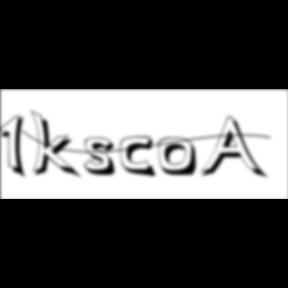1: (0, 114, 32, 182)
A: (200, 116, 270, 182)
c: (121, 136, 161, 180)
k: (30, 108, 84, 181)
o: (158, 137, 200, 179)
s: (84, 137, 124, 179)
